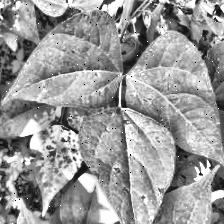ALS: (5, 7, 125, 112), (124, 34, 220, 164), (78, 104, 178, 224), (18, 127, 94, 213)
